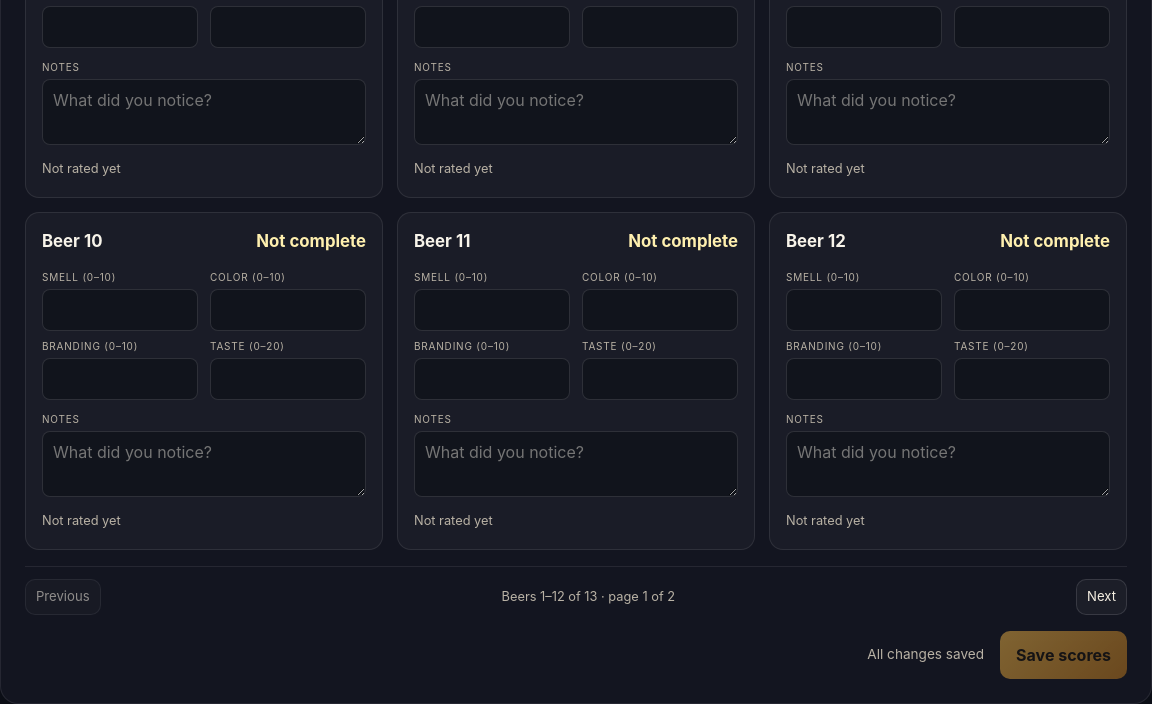
Test case: ScoreBoard › pages large beer lists instead of rendering every score field at once
The image size is (1152, 704).
(page scrolled)
expect the heading "Beer 12" is shown: met, box left=786, top=229, right=846, bottom=254
expect the heading "Beer 13" is not shown: met
Click the button "Next" at {"x": 1102, "y": 597}, box left=1076, top=579, right=1127, bottom=614
(page scrolled)
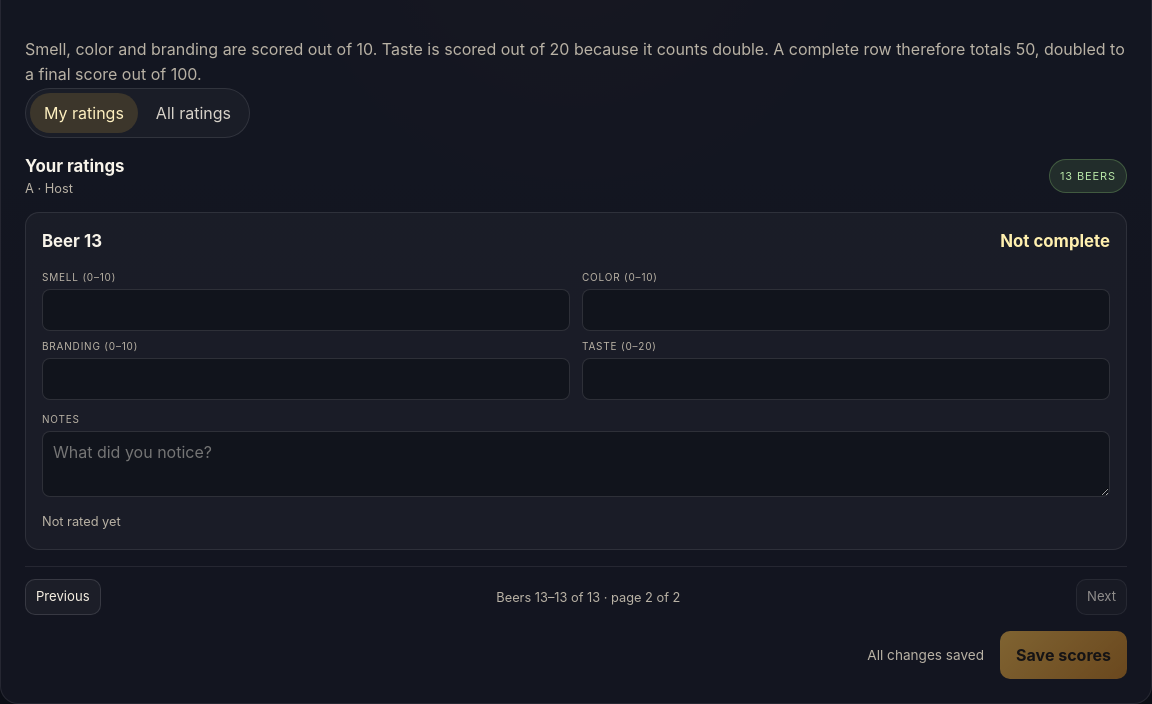
expect the heading "Beer 13" is shown: met, box left=42, top=229, right=102, bottom=254
